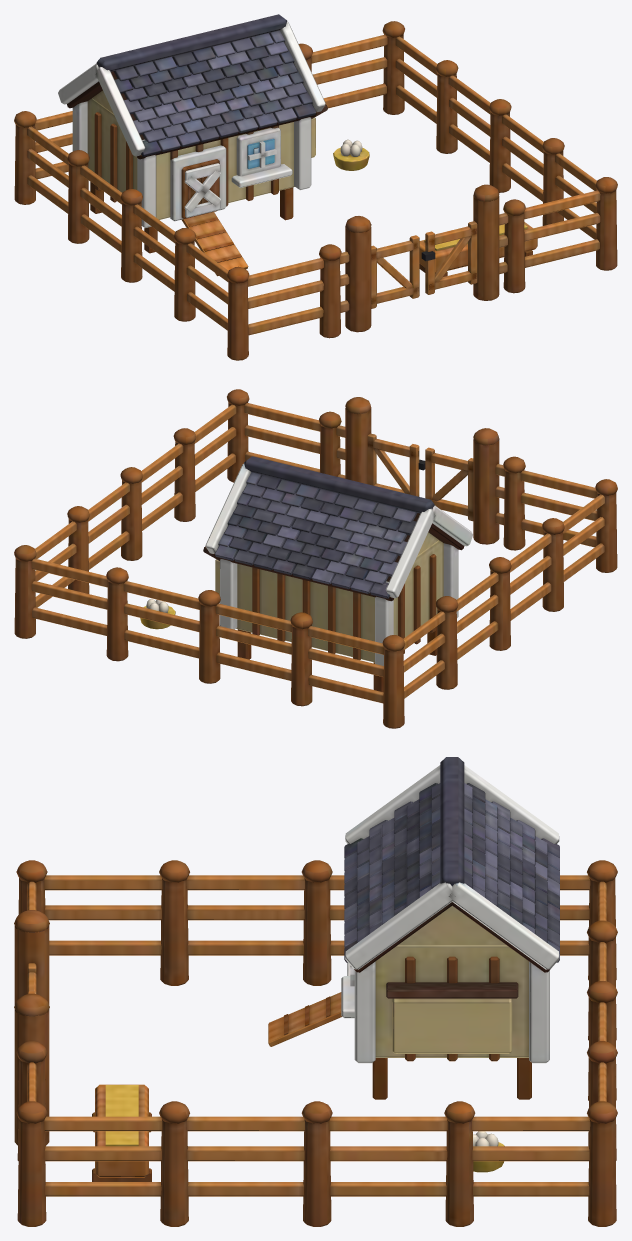
File: wyandotte_coop.glb
3 renders of one model, top to bottom at view 1: azimuth 30°, elevation 25°; view 2: azimuth 150°, elevation 25°; view 3: azimuth 270°, elevation 25°, orthographic. The views are drawn at different scales.
Visible parts, largest first — view 1: wyandotte_coop, gate1, gate0; view 2: wyandotte_coop, gate1, gate0; view 3: wyandotte_coop.
Part boxes in pixels (left/top/right/bottom): wyandotte_coop: left=14, top=14, right=617, bottom=360; gate1: left=421, top=221, right=477, bottom=294; gate0: left=371, top=235, right=419, bottom=308; wyandotte_coop: left=14, top=389, right=617, bottom=728; gate1: left=367, top=433, right=425, bottom=496; gate0: left=425, top=447, right=473, bottom=521; wyandotte_coop: left=14, top=757, right=617, bottom=1226.
Bounding box in the file's own units: 2 × 0.8813 × 2.01.
Materials: 1 (1 with a texture image).
